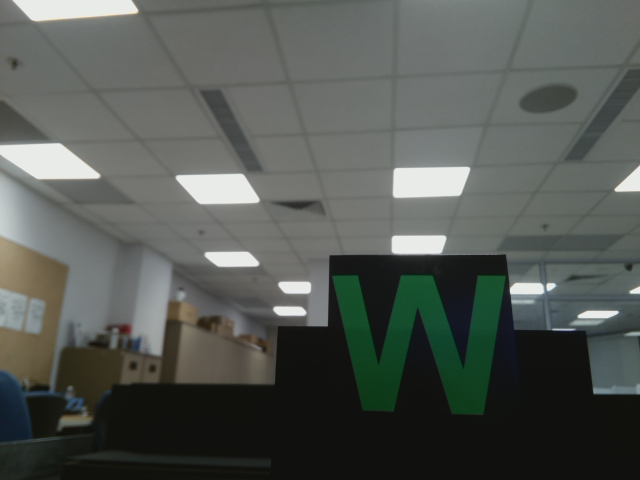w: (325, 263, 510, 420)
